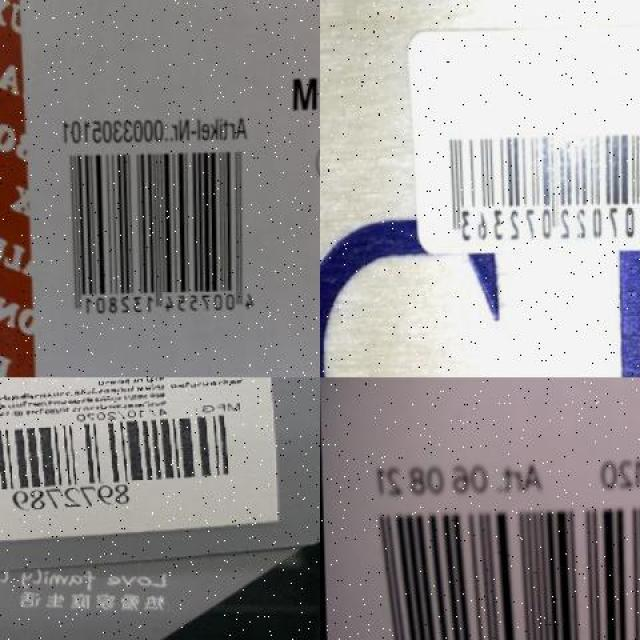Barcode: (365, 493, 640, 640), (50, 142, 262, 330), (430, 117, 640, 250), (0, 406, 236, 514)
